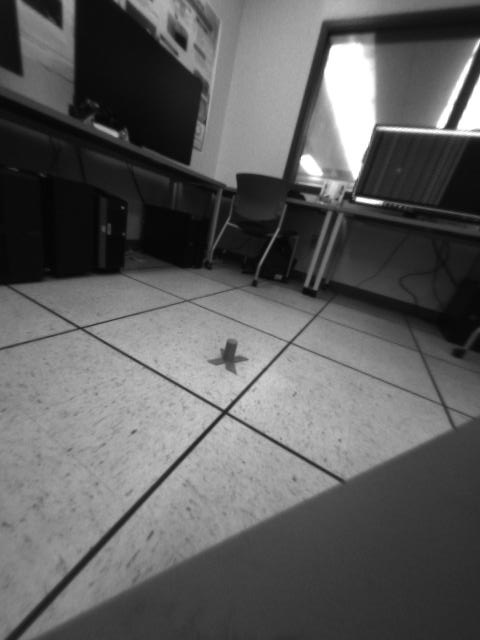X: (207, 339, 248, 375)
